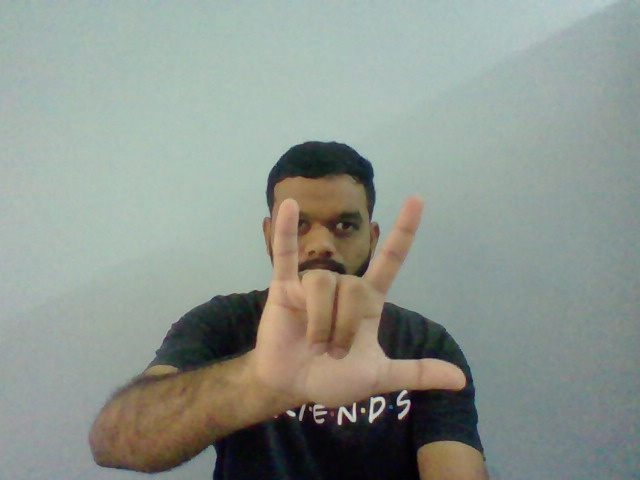I love you: (264, 198, 471, 405)
